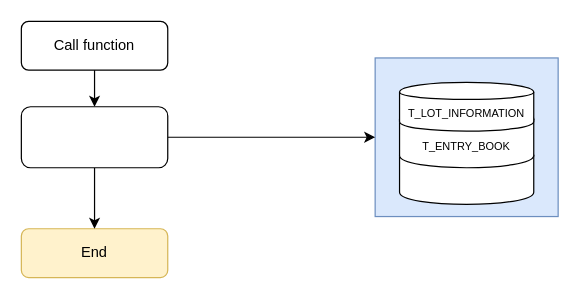
Image size: 580x299. Some labels were removed from this diagram. Each missing label, with the centre of its shape:
Membership: the point at 466,173
Print all usage state: the point at 94,137
